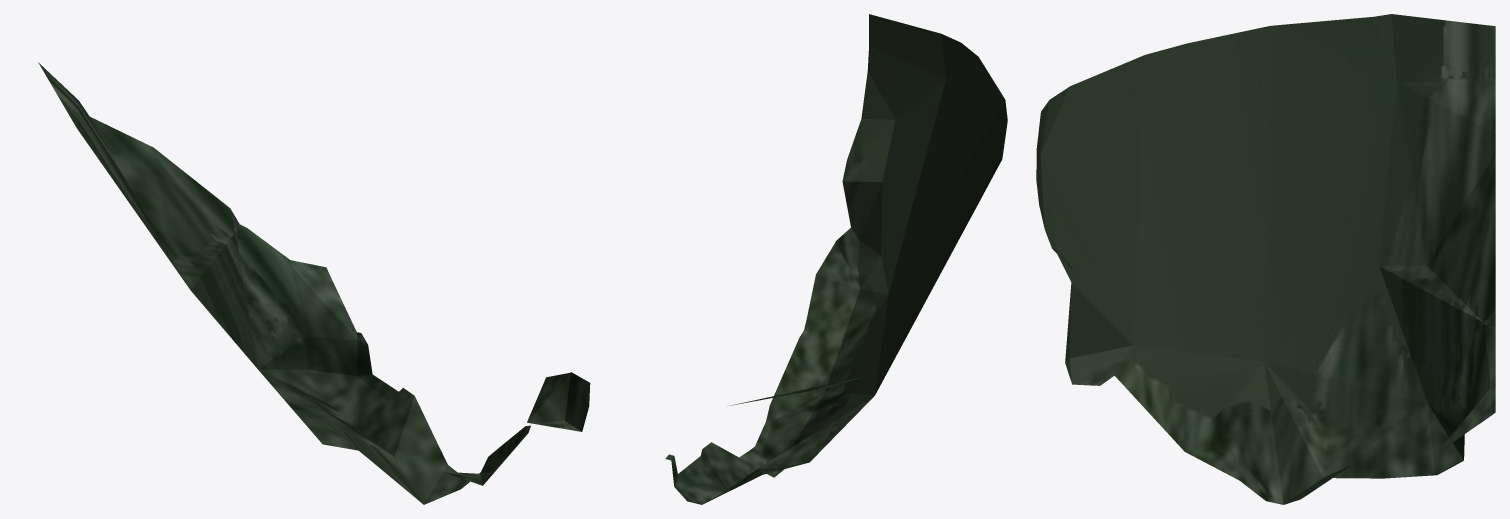
3 renders of one model, left to right at view 1: azimuth 30°, elevation 25°; view 2: azimuth 150°, elevation 25°; view 3: azimuth 270°, elevation 25°, orthographic. The views are drawn at different scales.
Size of the model in its own units: 1.73 by 2.22 by 2.5.
Materials: 2 (2 with a texture image).
